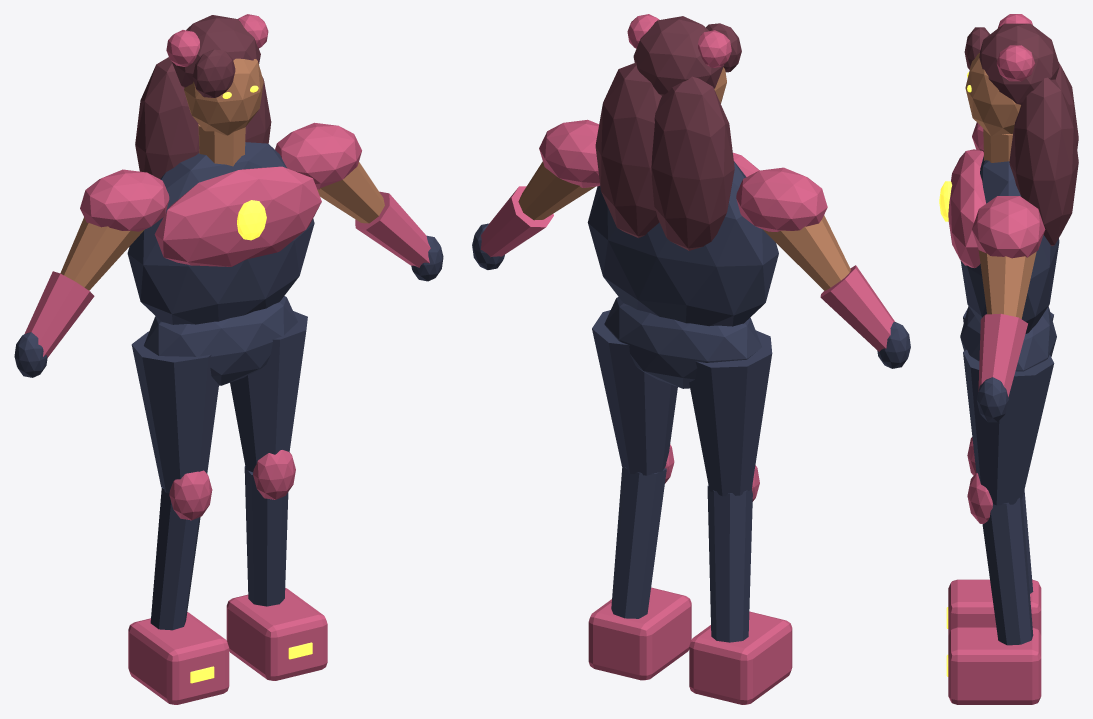
Rendered from SM_Illaoi.fbx.
3 renders of one model, left to right at view 1: azimuth 30°, elevation 25°; view 2: azimuth 150°, elevation 25°; view 3: azimuth 270°, elevation 25°, orthographic. The views are drawn at different scales.
Visible parts, largest first — view 1: SM_Illaoi; view 2: SM_Illaoi; view 3: SM_Illaoi.
Boxes of the visible parts, bbox=[...] form: SM_Illaoi: bbox=[14, 14, 443, 704]; SM_Illaoi: bbox=[472, 14, 910, 704]; SM_Illaoi: bbox=[939, 14, 1078, 704].
Bounding box in the file's own units: 121 × 34.6 × 176.
